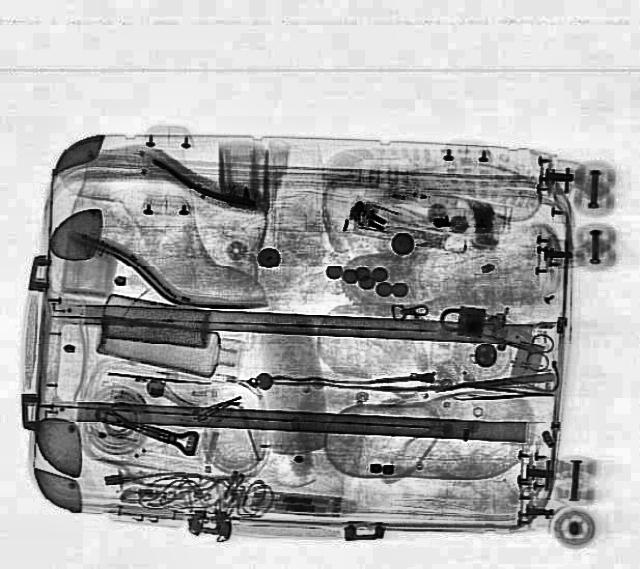Scissors: (476, 317, 560, 373)
